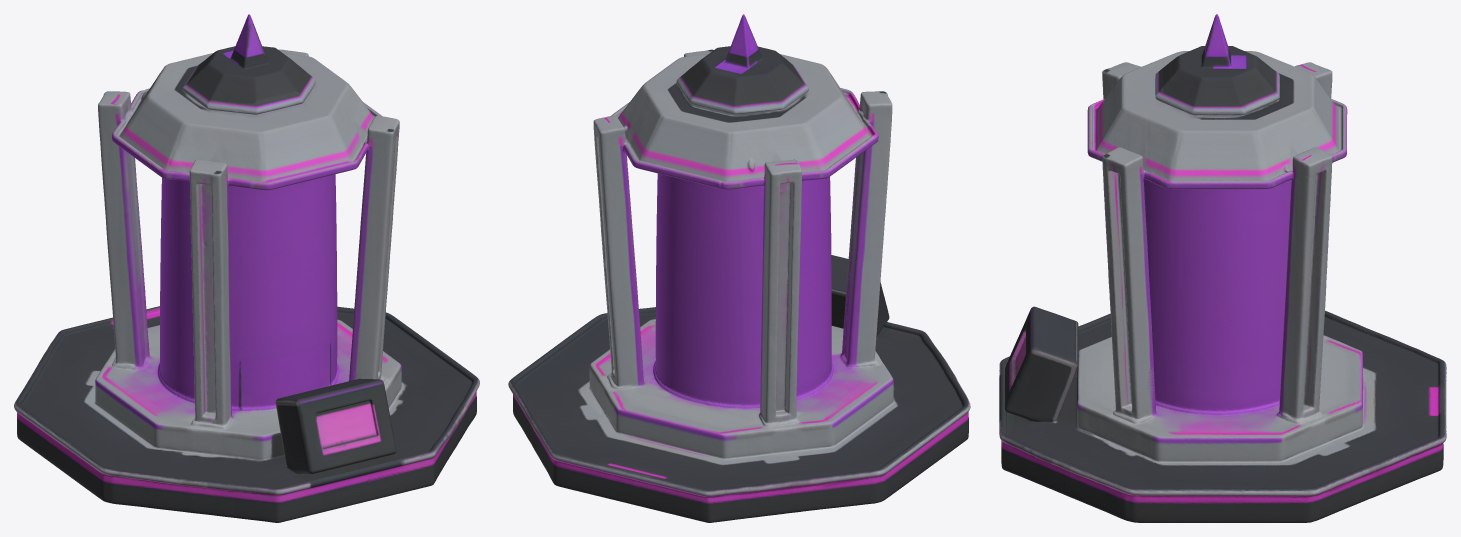
Rendered from synthesis_chamber.glb.
3 views of the same model, side by side, from view 1: azimuth 30°, elevation 25°; view 2: azimuth 150°, elevation 25°; view 3: azimuth 270°, elevation 25° (orthographic).
Parts seen in each view (by area): view 1: tripo_node_b093c46d-eade-4e94-ab9c-9fb28e3ca5fd; view 2: tripo_node_b093c46d-eade-4e94-ab9c-9fb28e3ca5fd; view 3: tripo_node_b093c46d-eade-4e94-ab9c-9fb28e3ca5fd.
Part boxes in pixels (<box>): tripo_node_b093c46d-eade-4e94-ab9c-9fb28e3ca5fd: <box>14,14,479,522</box>; tripo_node_b093c46d-eade-4e94-ab9c-9fb28e3ca5fd: <box>508,14,970,522</box>; tripo_node_b093c46d-eade-4e94-ab9c-9fb28e3ca5fd: <box>999,14,1446,522</box>.
Bounding box in the file's own units: 0.791 × 1 × 0.8022.
1 material, 1 textured.
